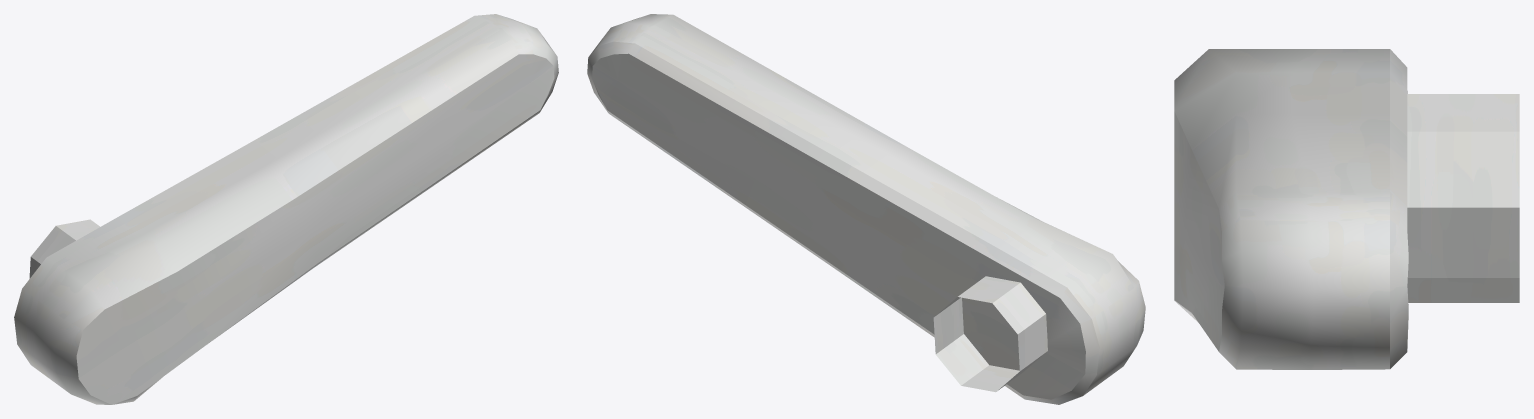
Rendered from Obj_DoorLock_Bone.fbx.
3 renders of one model, left to right at view 1: azimuth 30°, elevation 25°; view 2: azimuth 150°, elevation 25°; view 3: azimuth 270°, elevation 25°, orthographic. The views are drawn at different scales.
Parts seen in each view (by area): view 1: Handle; view 2: Handle; view 3: Handle.
Part boxes in pixels (<box>): Handle: <box>14,14,558,404</box>; Handle: <box>587,14,1145,404</box>; Handle: <box>1174,49,1519,369</box>.
Bounding box in the file's own units: 0.0827 × 0.0399 × 0.024.
Materials: 1 (1 with a texture image).
